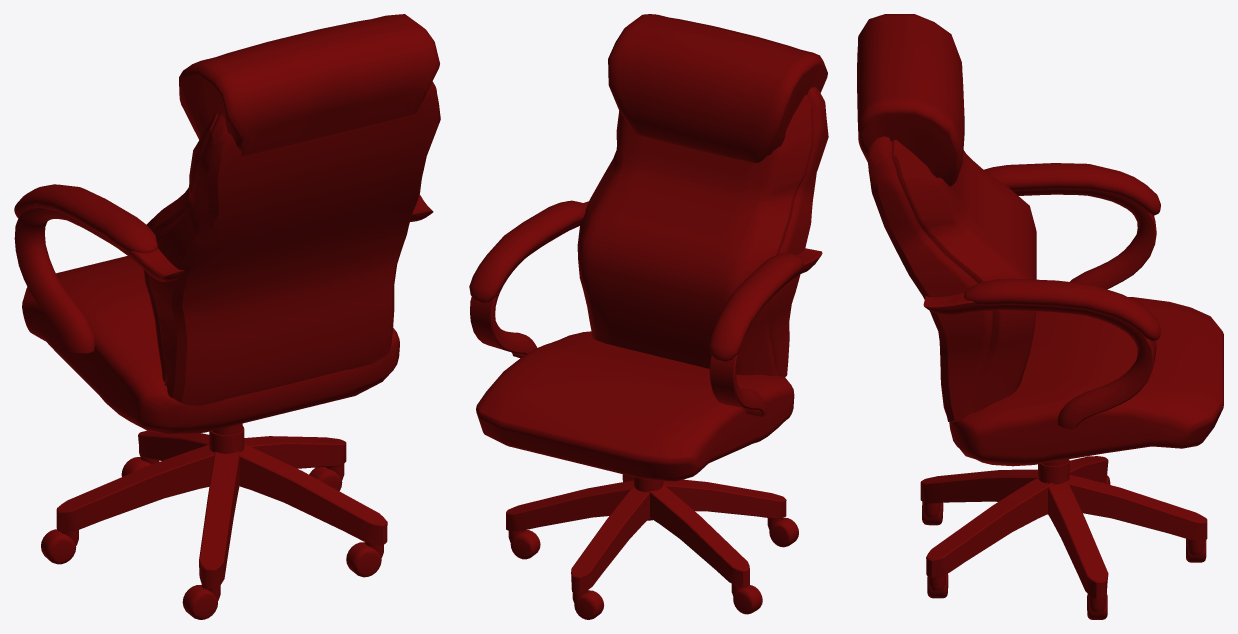
The model's file is officeChair_high.fbx.
The picture shows the model from 3 angles, left to right: view 1: azimuth 30°, elevation 25°; view 2: azimuth 150°, elevation 25°; view 3: azimuth 270°, elevation 25°; orthographic projection. The views are drawn at different scales.
Parts seen in each view (by area): view 1: officeChair_high; view 2: officeChair_high; view 3: officeChair_high.
Part boxes in pixels (box(x1,y1,x2,y2)): officeChair_high: box(14, 14, 440, 619); officeChair_high: box(469, 14, 828, 619); officeChair_high: box(857, 14, 1223, 619).
Size of the model in its own units: 0.8342 by 1.42 by 0.923.
